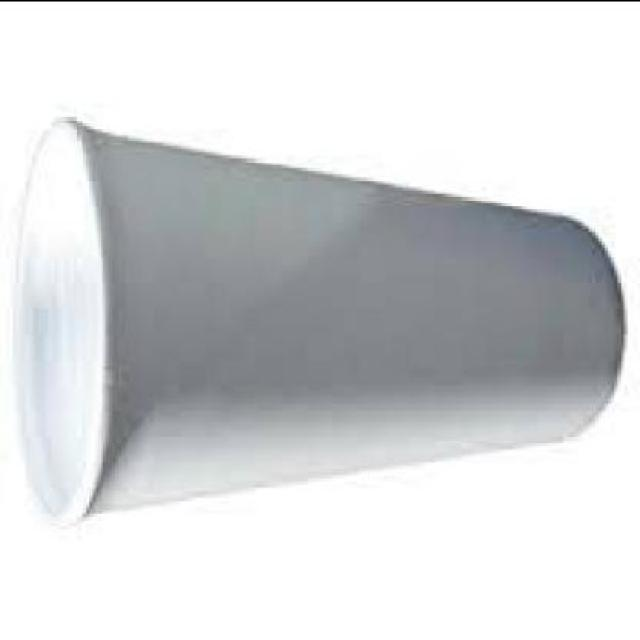PAPER: (9, 112, 628, 525)
